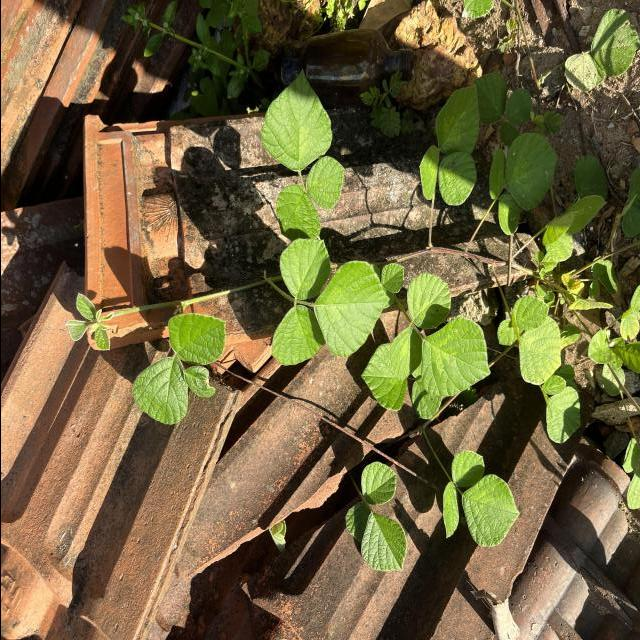Pseudarthria viscida: (270, 237, 390, 367), (258, 68, 346, 242), (388, 272, 490, 397), (416, 82, 479, 206), (442, 449, 520, 548), (487, 131, 559, 237), (343, 460, 407, 572)
